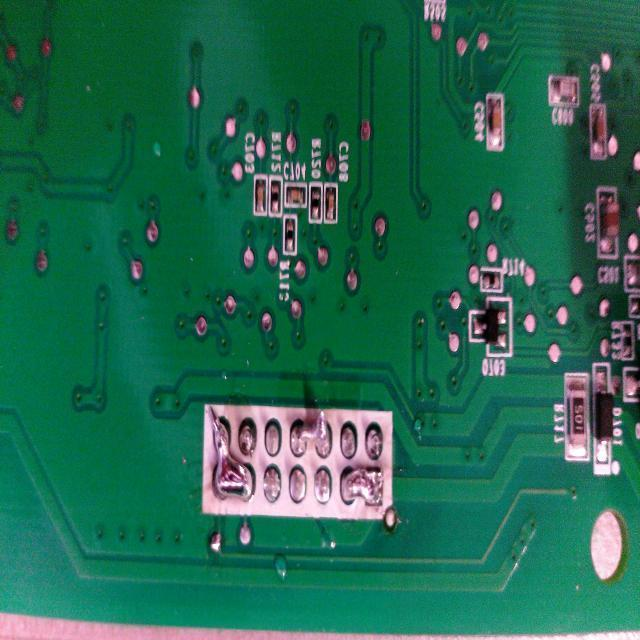Soldering bridge: (206, 405, 256, 502), (284, 406, 336, 462), (339, 460, 386, 512)
